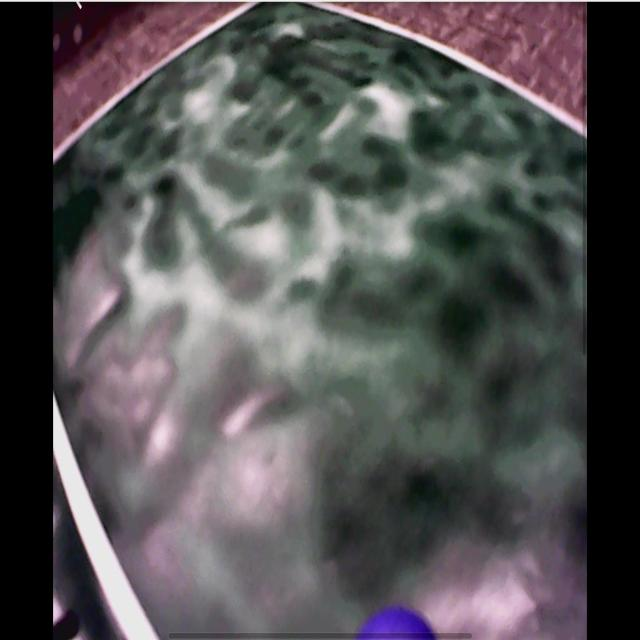ball: (357, 610, 437, 640)
